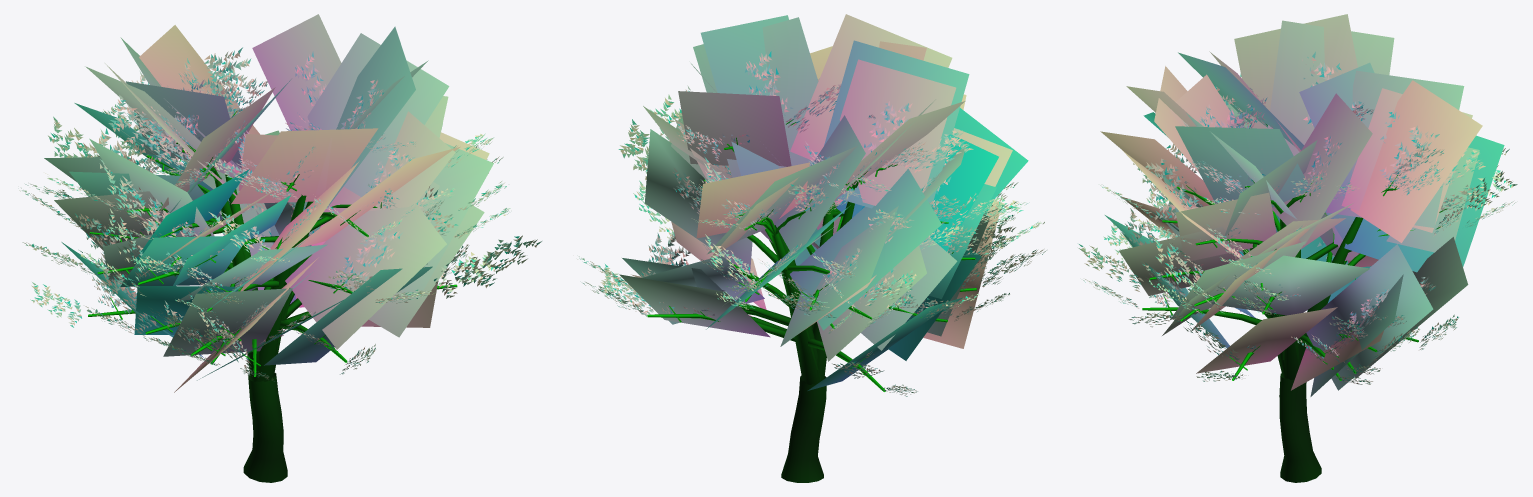
Rendered from hill_a_1.glb.
3 views of the same model, side by side, from view 1: azimuth 30°, elevation 25°; view 2: azimuth 150°, elevation 25°; view 3: azimuth 270°, elevation 25° (orthographic). The views are drawn at different scales.
Visible parts, largest first — view 1: mid, near; view 2: mid, near; view 3: mid, near.
Part boxes in pixels (x1,y1,x2,y2): mid: (44,14,493,392); near: (19,47,541,482); mid: (619,14,1028,390); near: (577,51,1046,482); mid: (1100,14,1504,396); near: (1078,51,1517,482).
Bounding box in the file's own units: 9.34 × 8.69 × 8.64.
